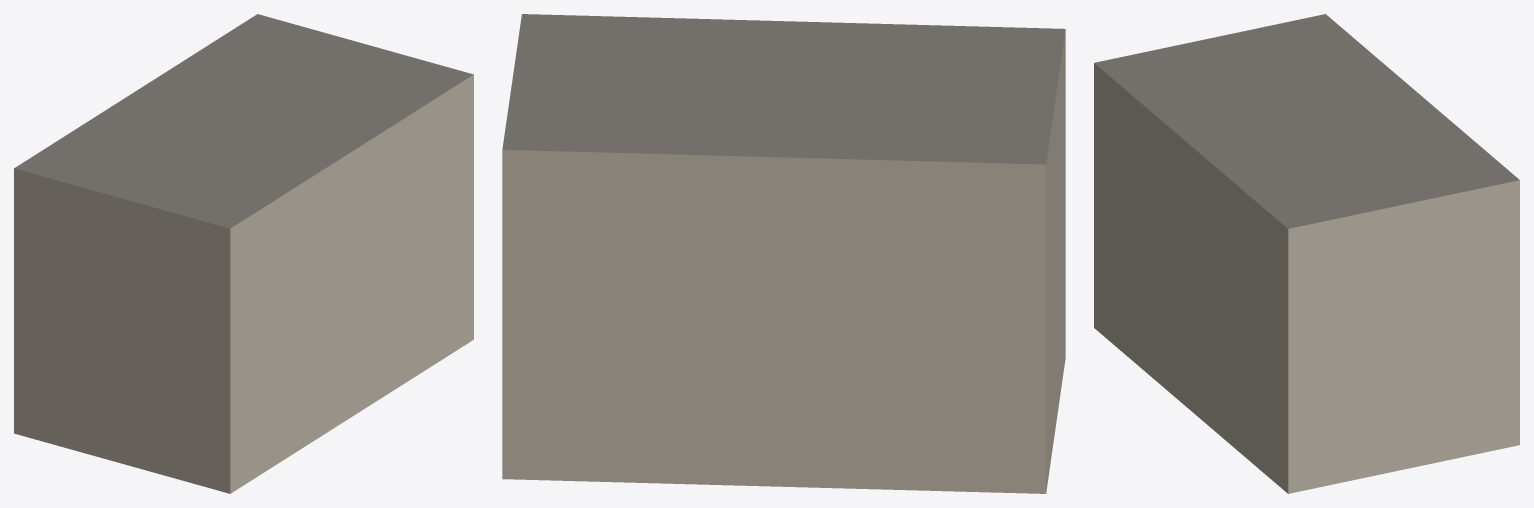
3 views of the same model, side by side, from view 1: azimuth 30°, elevation 25°; view 2: azimuth 150°, elevation 25°; view 3: azimuth 270°, elevation 25° (orthographic). The views are drawn at different scales.
Parts seen in each view (by area): view 1: HP-w1286965191; view 2: HP-w1286965191; view 3: HP-w1286965191.
Part boxes in pixels (bbox=[...]): HP-w1286965191: bbox=[14, 14, 473, 493]; HP-w1286965191: bbox=[502, 14, 1065, 493]; HP-w1286965191: bbox=[1094, 14, 1519, 493].
Bounding box in the file's own units: 31.31 × 18 × 26.22.
